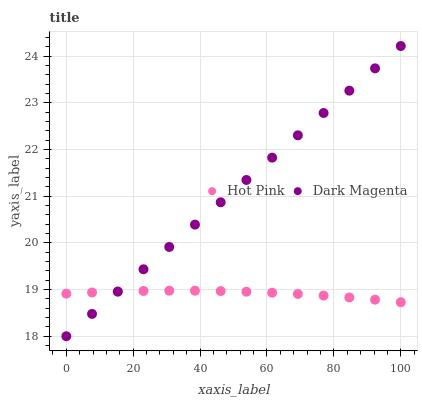axis: (42, 34, 54, 347), (53, 347, 421, 356)
legend: (201, 171, 412, 207)
point: (212, 197, 232, 212), (314, 107, 331, 121), (189, 285, 204, 299), (238, 172, 255, 184), (192, 216, 203, 233), (239, 286, 253, 299), (290, 289, 304, 302), (265, 153, 281, 164), (59, 288, 71, 302), (394, 297, 408, 309), (86, 309, 101, 320), (113, 286, 123, 301), (137, 287, 150, 298), (346, 289, 356, 302), (163, 241, 176, 251), (396, 42, 407, 52), (373, 64, 382, 71)
